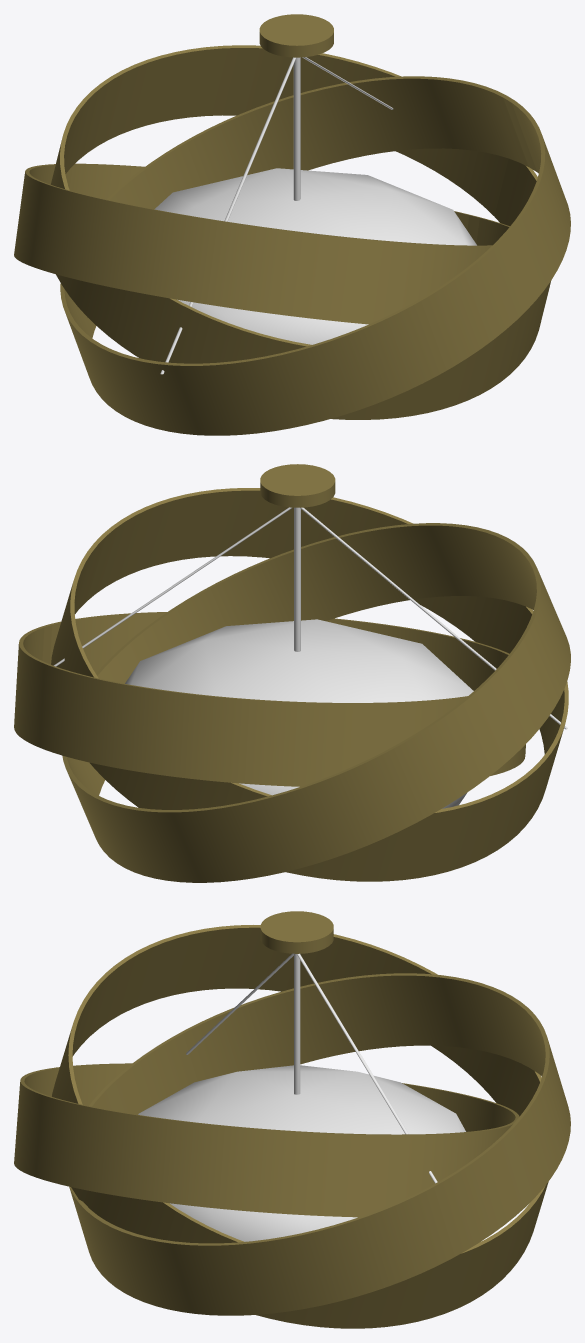
File: Lamp_Espiral _circular.fbx
The picture shows the model from 3 angles, top to bottom: view 1: azimuth 30°, elevation 25°; view 2: azimuth 150°, elevation 25°; view 3: azimuth 270°, elevation 25°; orthographic projection. The views are drawn at different scales.
Parts seen in each view (by area): view 1: golden circles, Icosphere, Cylinder001, holder; view 2: golden circles, Icosphere, Cylinder001, holder; view 3: golden circles, Icosphere, Cylinder001, holder.
Boxes of the visible parts, x1,y1,x2,y2 form: golden circles: (14, 45, 570, 435); Icosphere: (154, 168, 476, 344); Cylinder001: (259, 14, 333, 57); holder: (160, 57, 393, 374); golden circles: (14, 488, 570, 882); Icosphere: (125, 619, 473, 808); Cylinder001: (260, 464, 335, 507); holder: (53, 507, 567, 729); golden circles: (14, 925, 570, 1328); Icosphere: (138, 1065, 465, 1241); Cylinder001: (260, 911, 333, 953); holder: (186, 953, 437, 1183).
Bounding box in the file's own units: 65.46 × 45.12 × 66.71.
